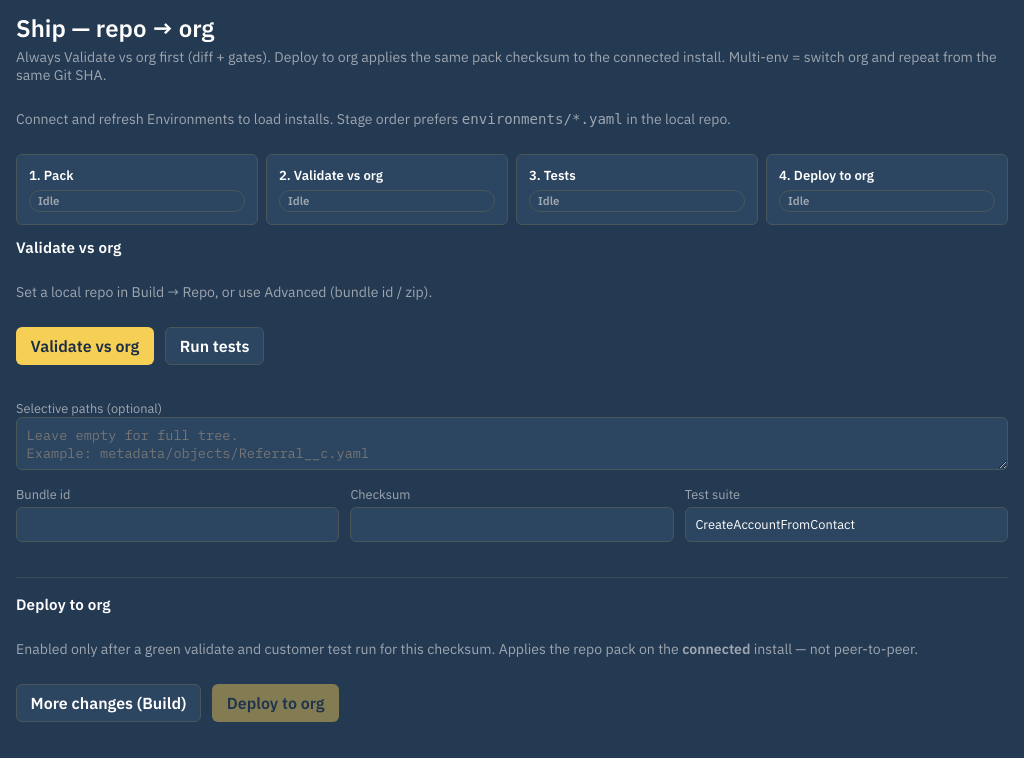
Test: DeployPanel › does not mark customer tests Passed on HTTP 200 when the suite failed
Step 1. Click the button with test id "run-tests" → point(215, 346), box x1=165 y1=327 x2=264 y2=365
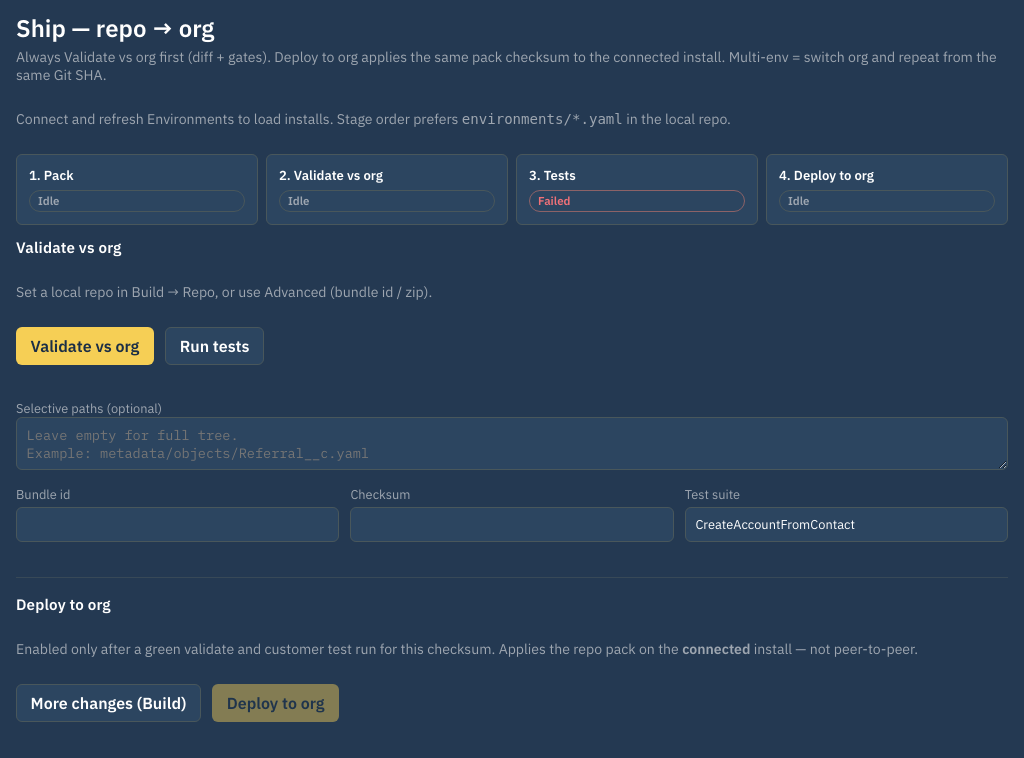
Expected: the button with test id "deploy-to-org" is disabled, x1=212 y1=684 x2=339 y2=722
Expected: the element with test id "tests-step" shows "Failed", x1=538 y1=193 x2=570 y2=208
